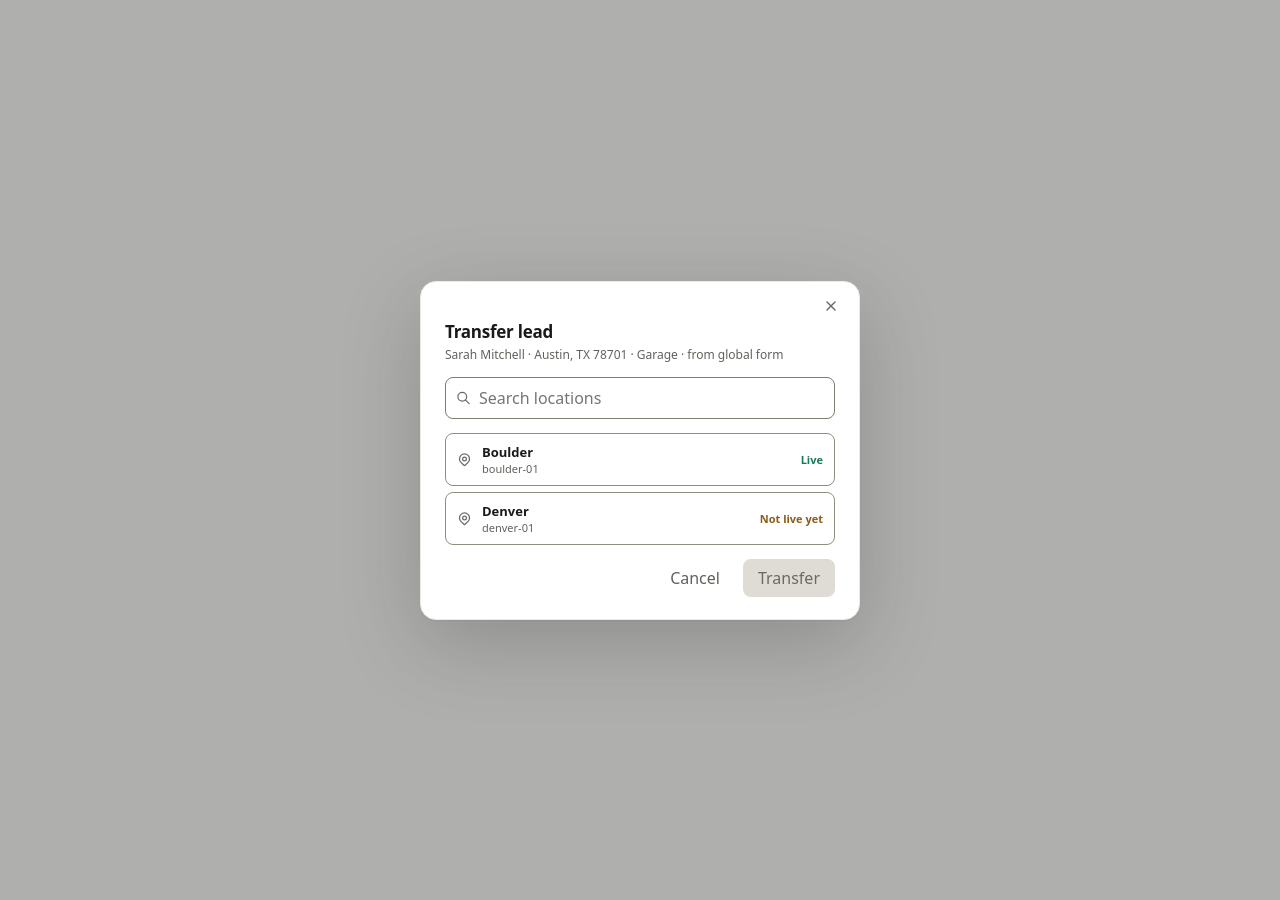
TransferLeadModal › ACTIVE destination note says it starts the drip (never a silent no-op)
What coordinates should you click on to do the following:
click the option "Boulder boulder-01 Live"
I would click on:
 (508, 452)
Its box is x1=445 y1=432 x2=835 y2=486.
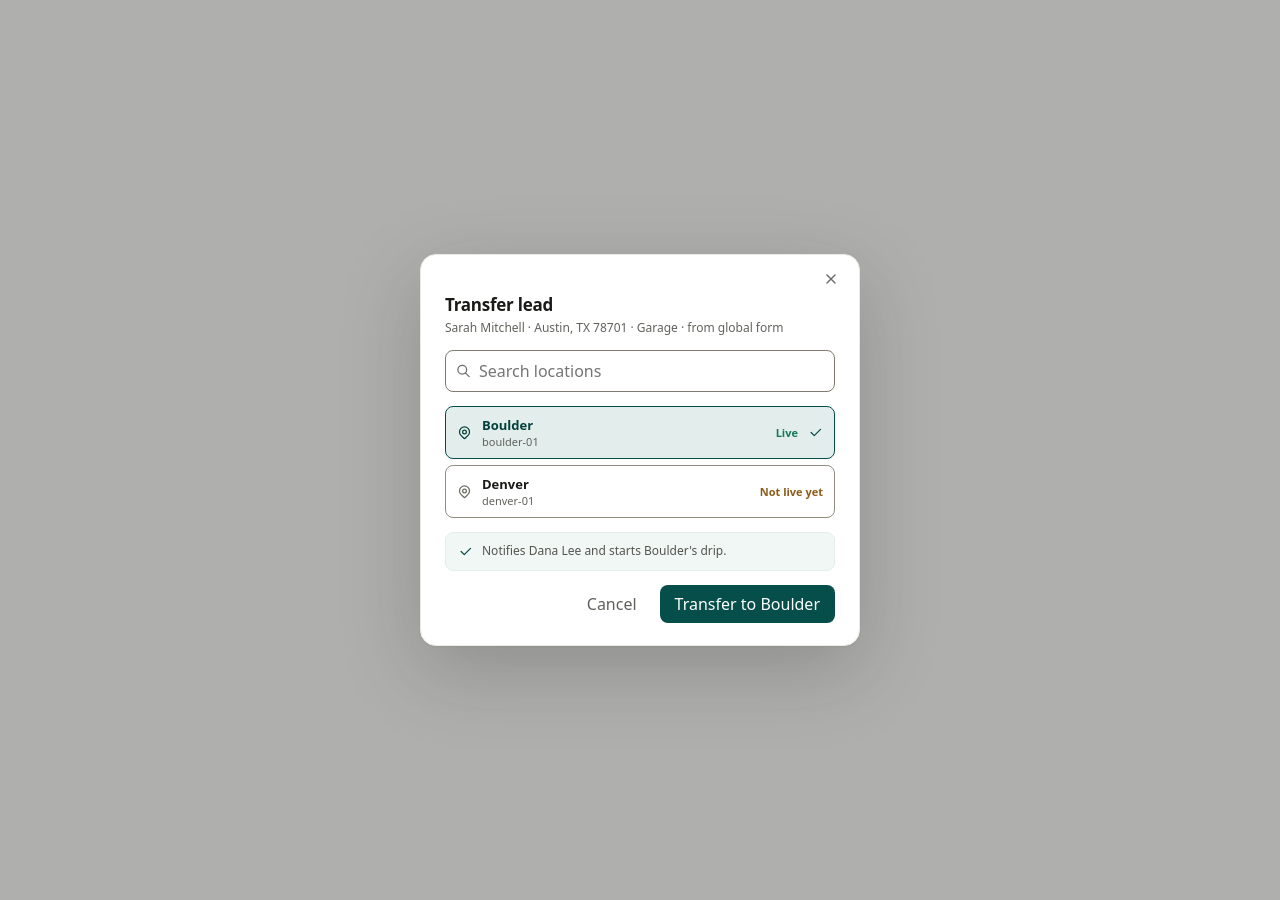
Expected: the button "Transfer to Boulder" is shown, x1=660 y1=585 x2=835 y2=623
Expected: the text "starts Boulder's drip" is shown, x1=482 y1=543 x2=726 y2=560
Expected: the text "Dana Lee" is shown, x1=529 y1=542 x2=581 y2=559
